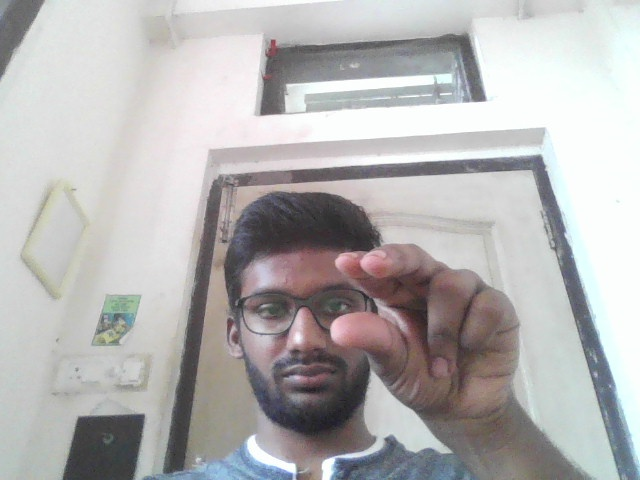No: (331, 238, 529, 424)
